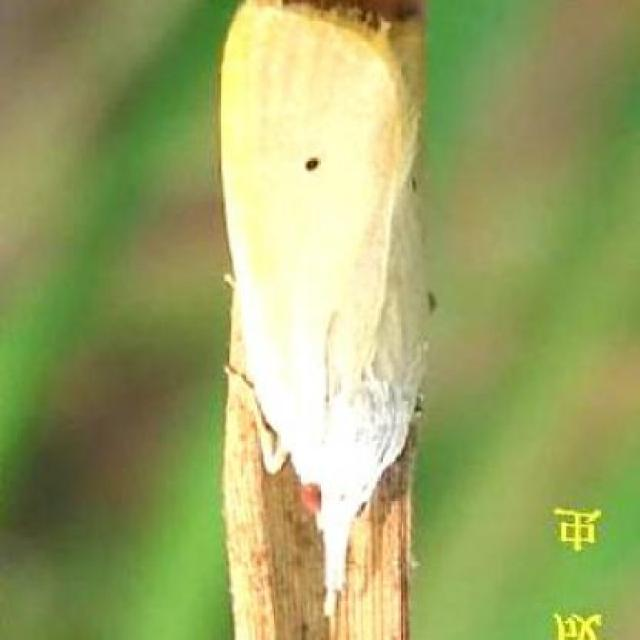stem-borer: (214, 0, 430, 618)
